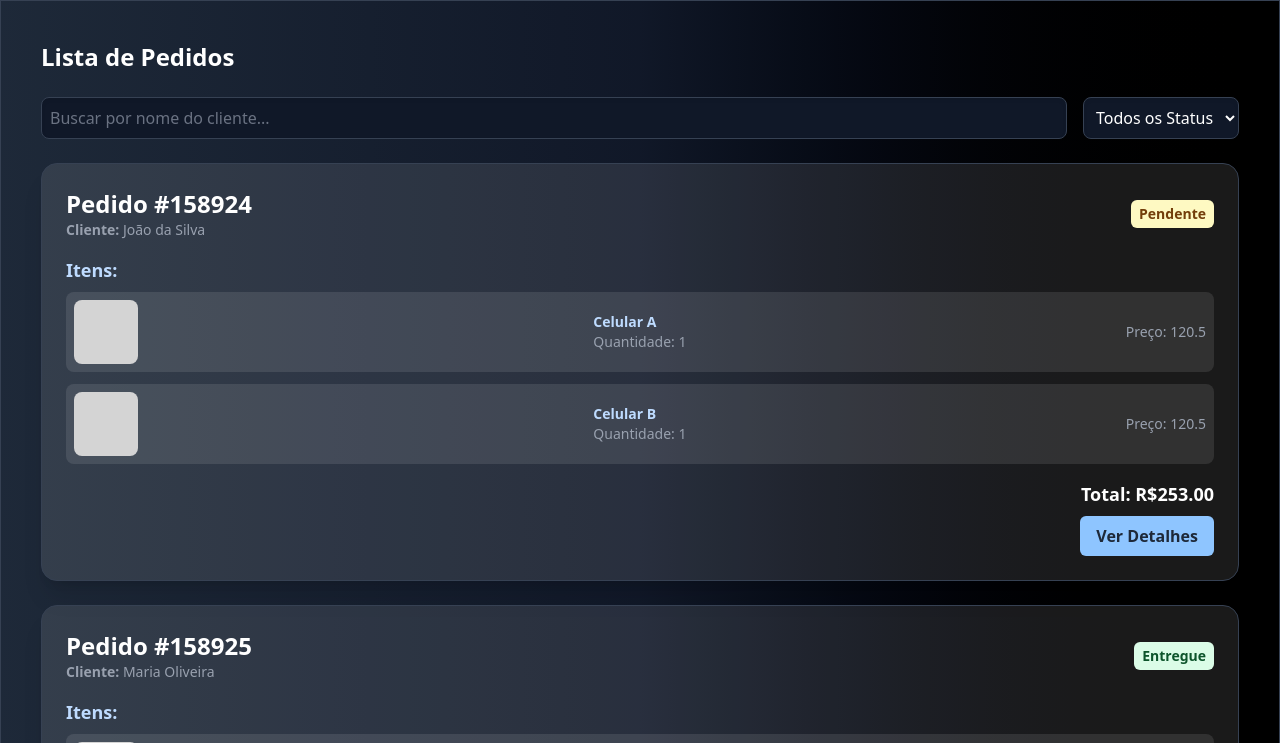
Scenario: Home Page › displays an error message when no orders match the filters
Type "Nonexistent Name" into the field with placeholder "Buscar por nome do cliente...". click: (554, 118)
box: 41,97 -> 1067,139
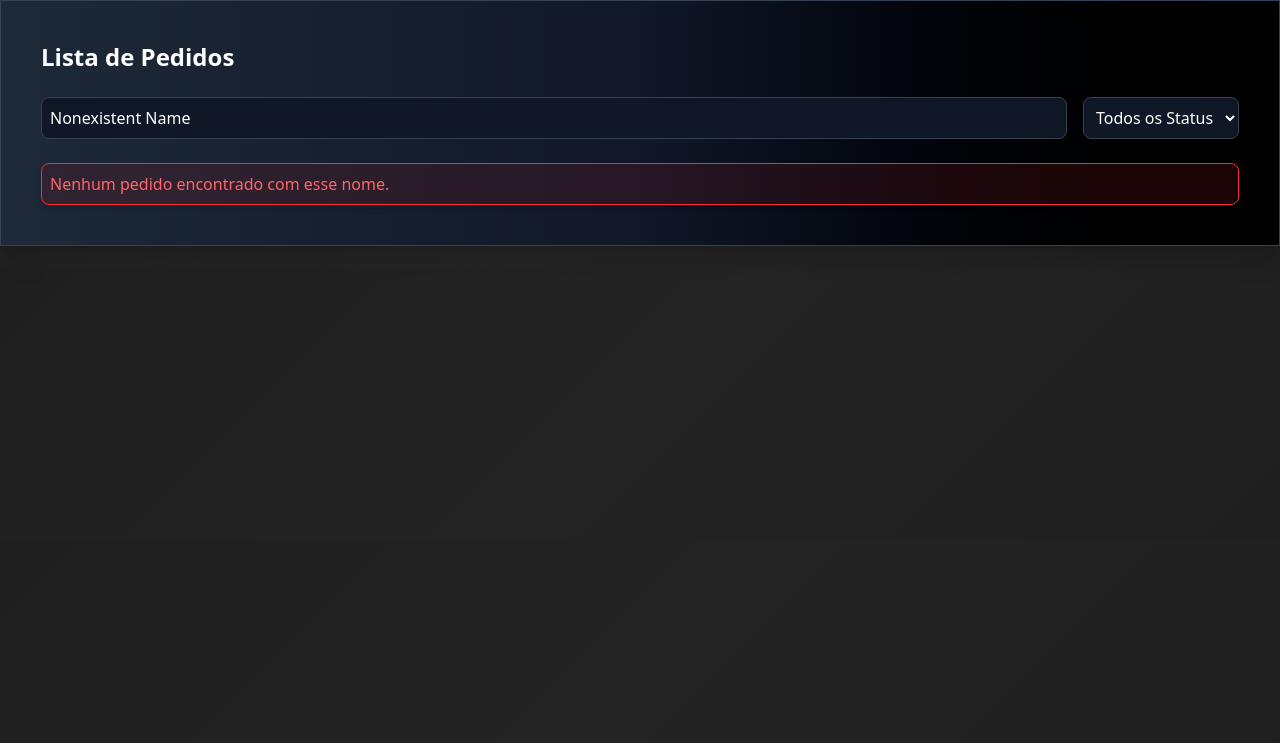
Check: the text "Nenhum pedido encontrado com esse nome." is shown, box 41,163 -> 1239,205
